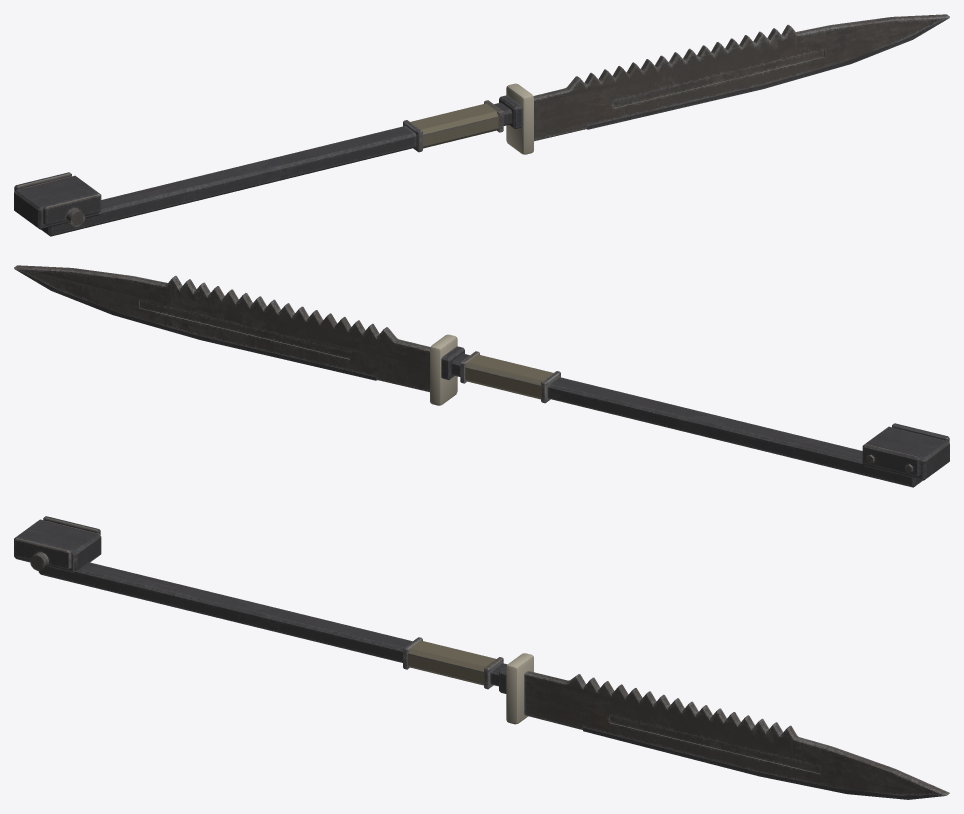
The model's file is bonesaw_bayonet.glb.
3 views of the same model, one above another, from view 1: azimuth 30°, elevation 25°; view 2: azimuth 150°, elevation 25°; view 3: azimuth 330°, elevation 25° (orthographic).
Parts seen in each view (by area): view 1: Blade, bonesaw_bayonet; view 2: Blade, bonesaw_bayonet; view 3: Blade, bonesaw_bayonet.
Part boxes in pixels (bbox=[...]): Blade: bbox=[499, 14, 949, 154]; bonesaw_bayonet: bbox=[14, 100, 512, 236]; Blade: bbox=[14, 265, 464, 405]; bonesaw_bayonet: bbox=[451, 351, 949, 487]; Blade: bbox=[499, 653, 949, 799]; bonesaw_bayonet: bbox=[14, 516, 507, 689].
Size of the model in its own units: 0.5244 by 0.039 by 0.037.
Materials: 1 (1 with a texture image).
